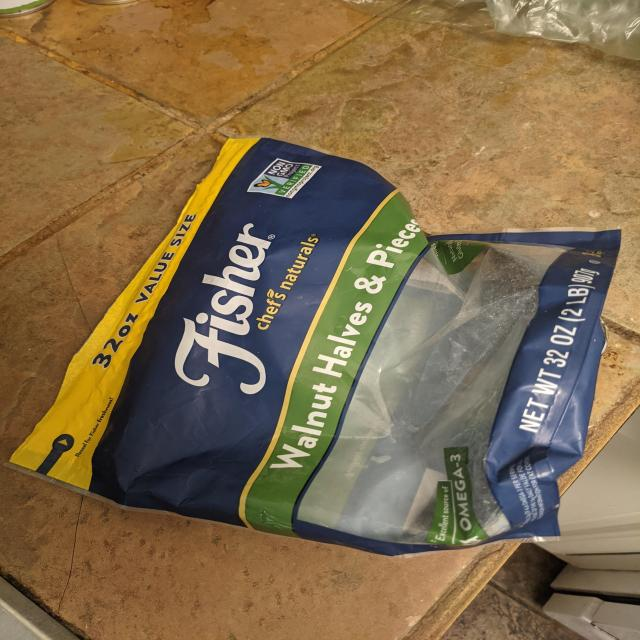litter: (9, 132, 621, 558), (351, 1, 637, 63)
